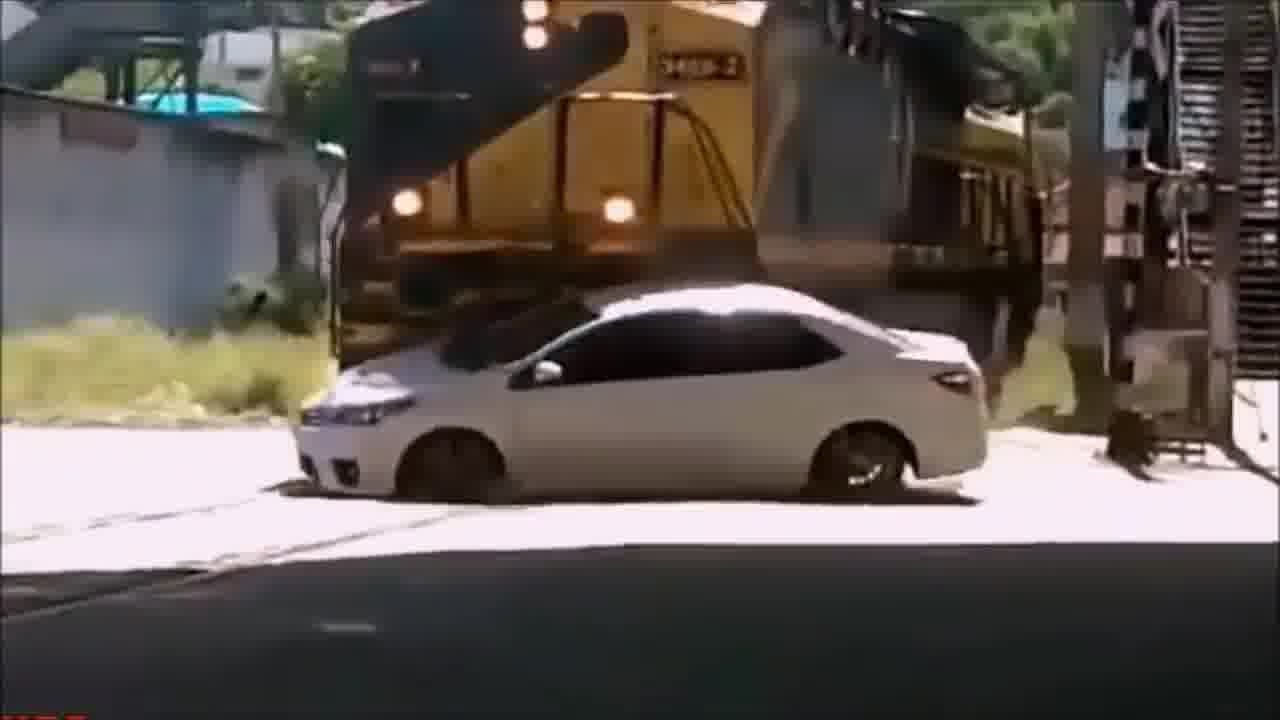crossing railway track: (301, 278, 1032, 504)
